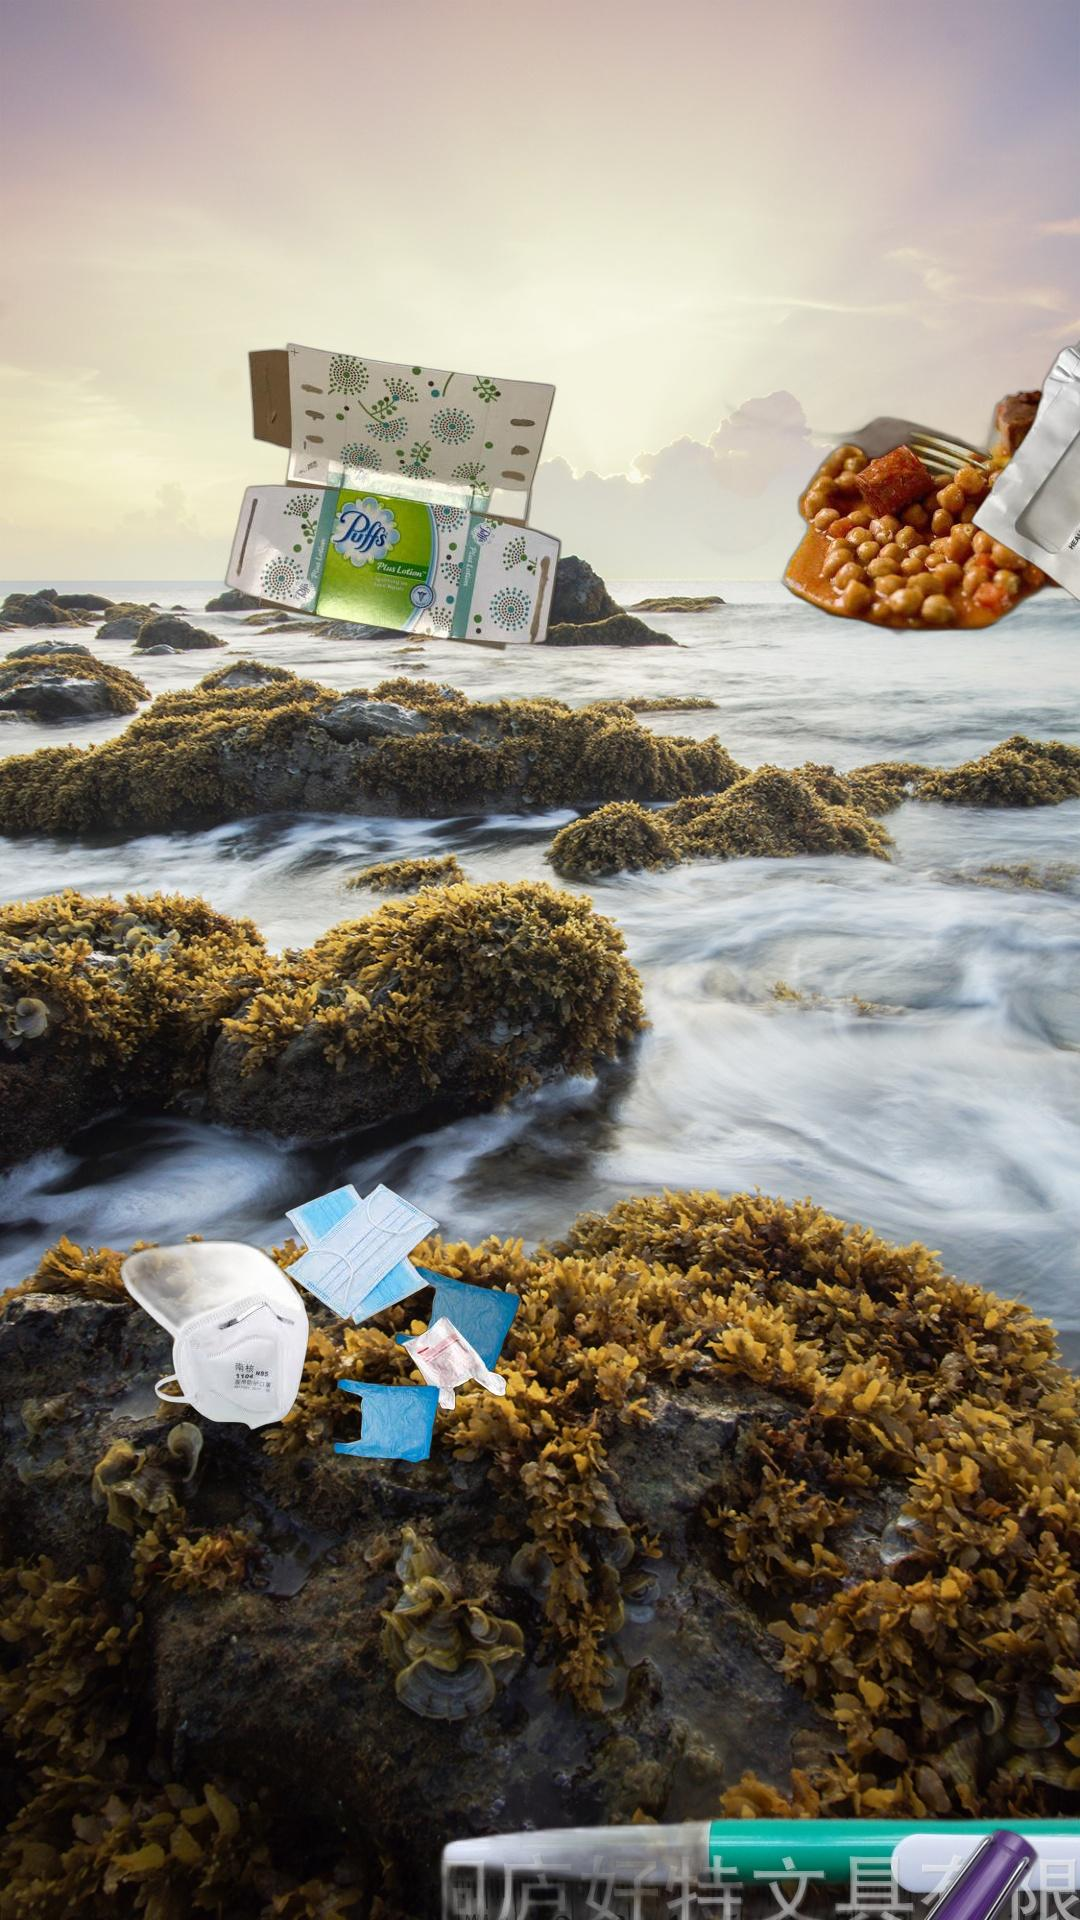biological: (719, 323, 1080, 638)
paper: (220, 342, 566, 653), (967, 262, 1080, 632)
penholder: (409, 1425, 1080, 1920), (669, 1824, 1080, 1920)
plastic-bag: (330, 1263, 524, 1487)
trash: (113, 1222, 324, 1433), (280, 1180, 443, 1328)
